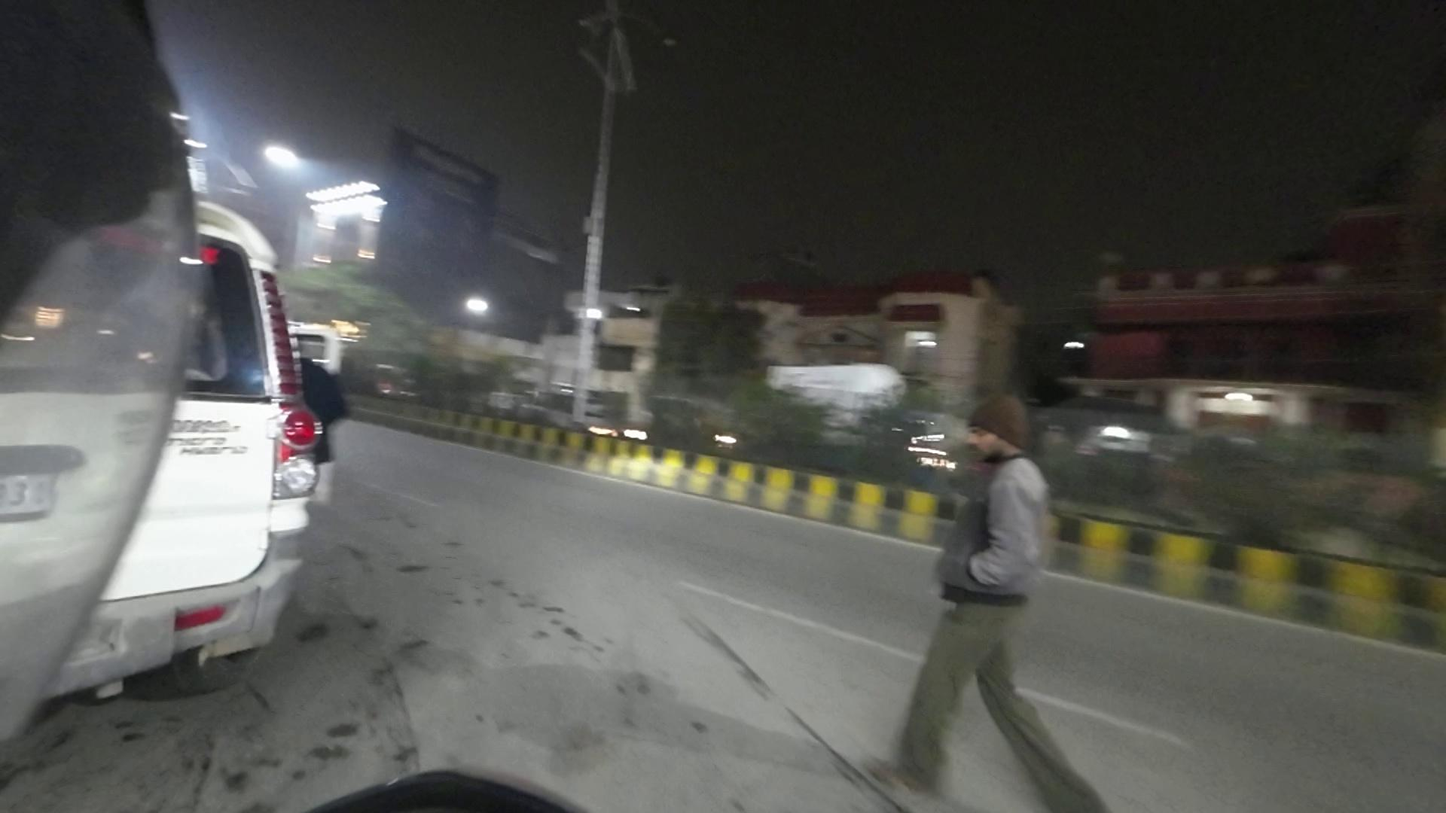streetlight: (620, 9, 678, 50)
